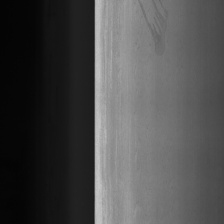water_spot: (134, 0, 175, 58)
